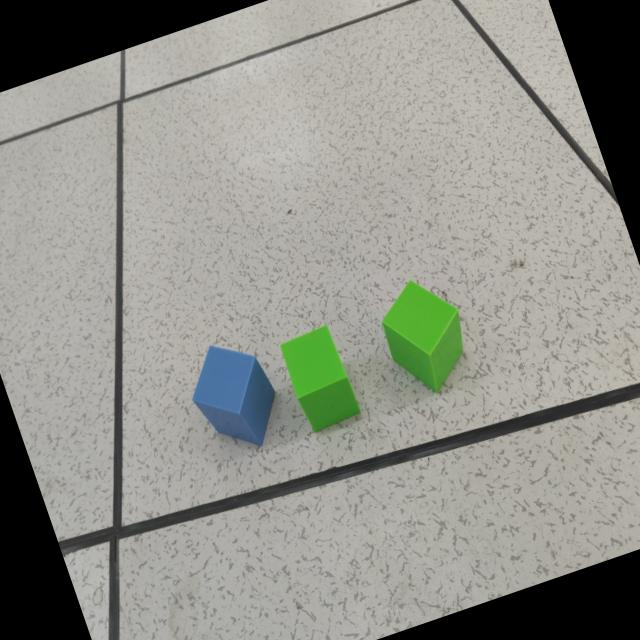blue: (192, 346, 276, 449)
green: (382, 281, 463, 394), (280, 325, 360, 433)
